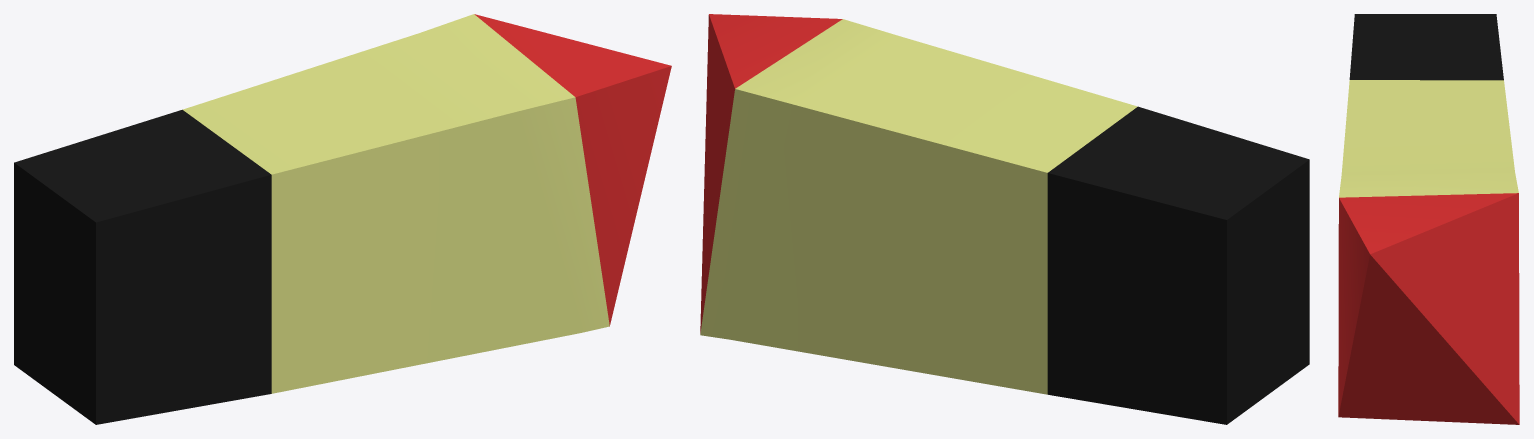
File: CombatantZombieRightForearm.glb
The picture shows the model from 3 angles, left to right: view 1: azimuth 30°, elevation 25°; view 2: azimuth 150°, elevation 25°; view 3: azimuth 270°, elevation 25°; orthographic projection. The views are drawn at different scales.
Visible parts, largest first — view 1: CombatantZombieRightForearm; view 2: CombatantZombieRightForearm; view 3: CombatantZombieRightForearm.
Boxes of the visible parts, <box> form: CombatantZombieRightForearm: <box>14,14,671,424</box>; CombatantZombieRightForearm: <box>700,14,1309,424</box>; CombatantZombieRightForearm: <box>1338,14,1519,424</box>.
Size of the model in its own units: 2.54 by 1.05 by 0.7895.
Materials: 1 (1 with a texture image).
